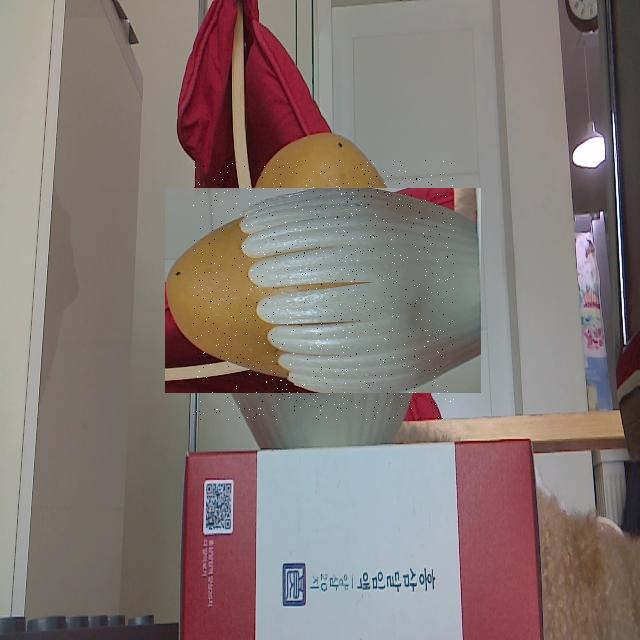pear: (193, 160, 454, 420)
